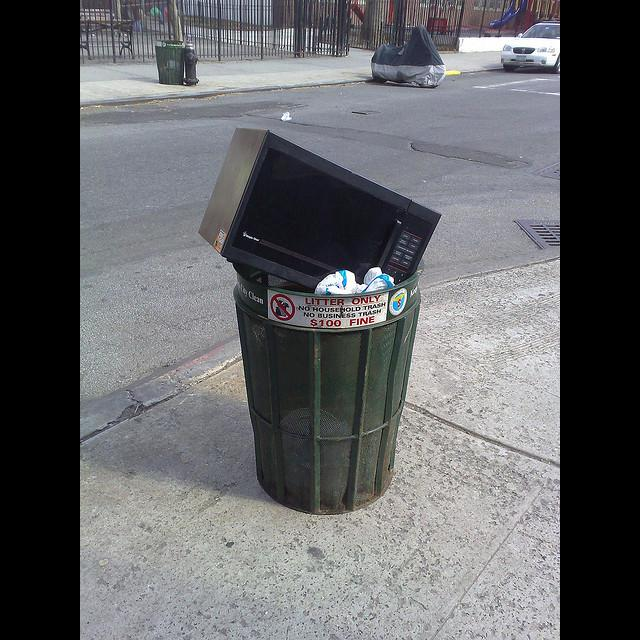Microwave: (197, 127, 442, 287)
